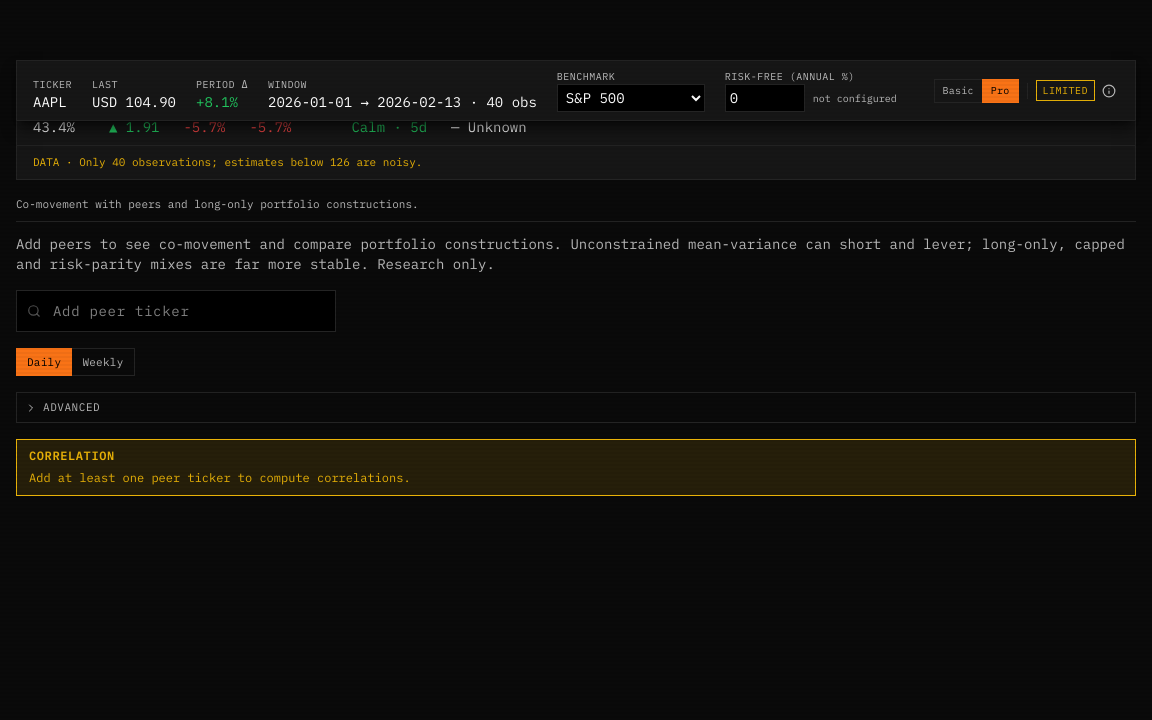
QuantPanel › reports peers that failed to load
In the dropdown with placeholder "Add peer ticker": (192, 311) [49,291,335,331], type "ZZZZ"
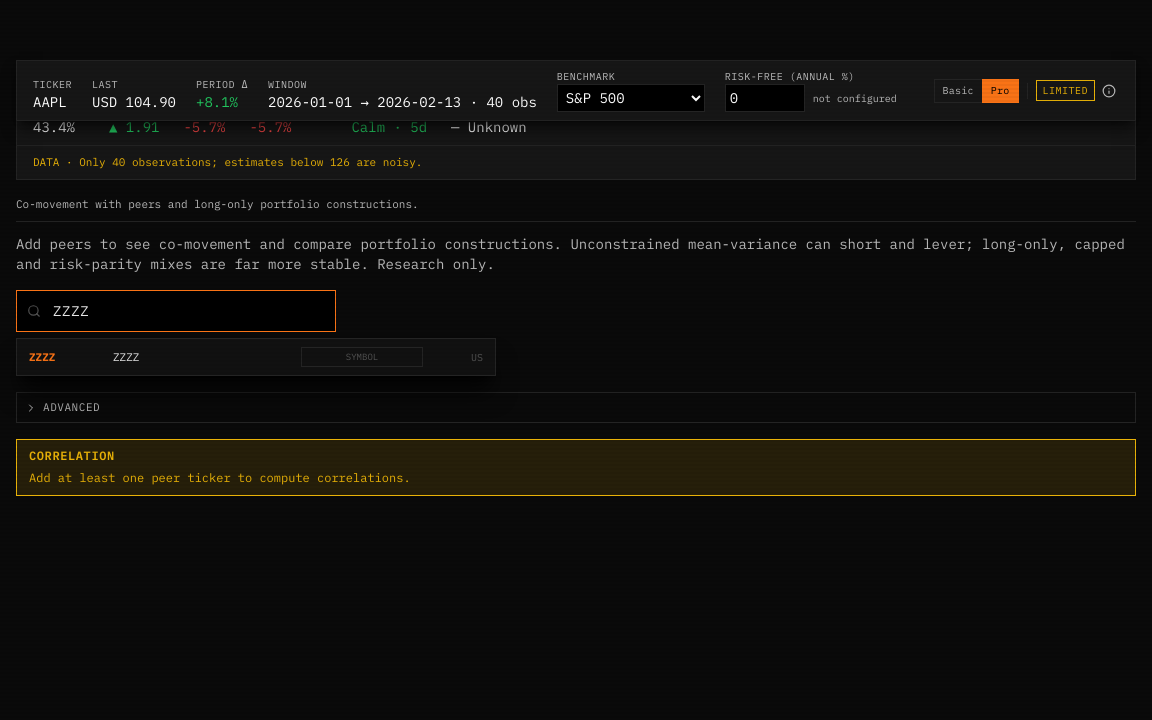
Press Enter in the dropdown with placeholder "Add peer ticker", box [49,291,335,331]
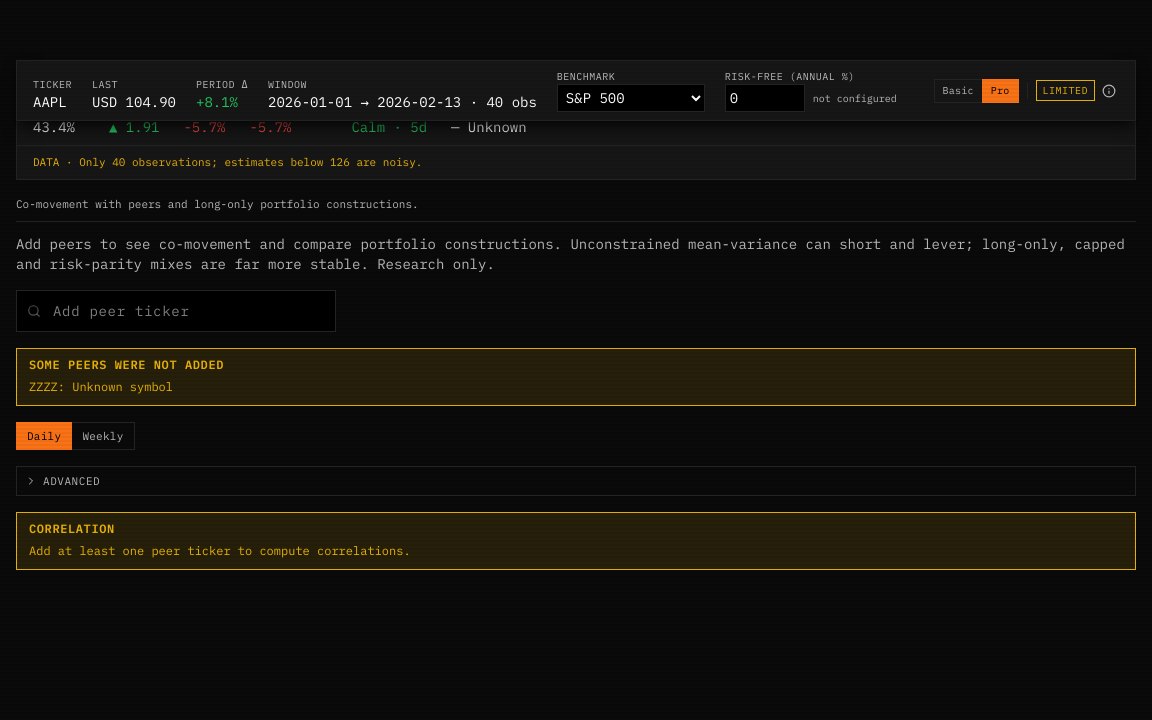
Result: the list item "ZZZZ: Unknown symbol" is shown at [29,379,173,394]
